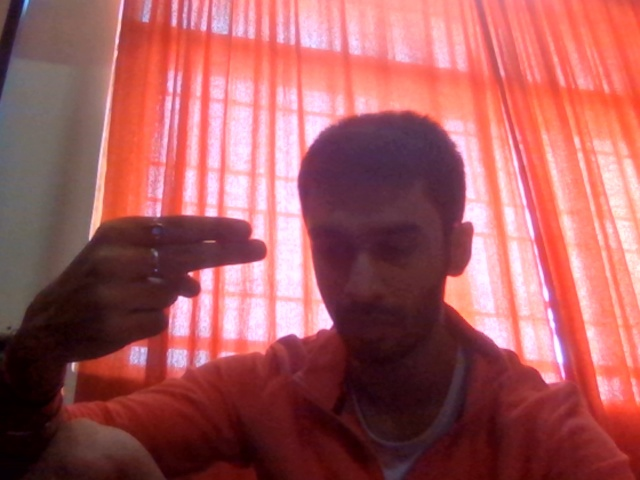H: (12, 192, 279, 377)
